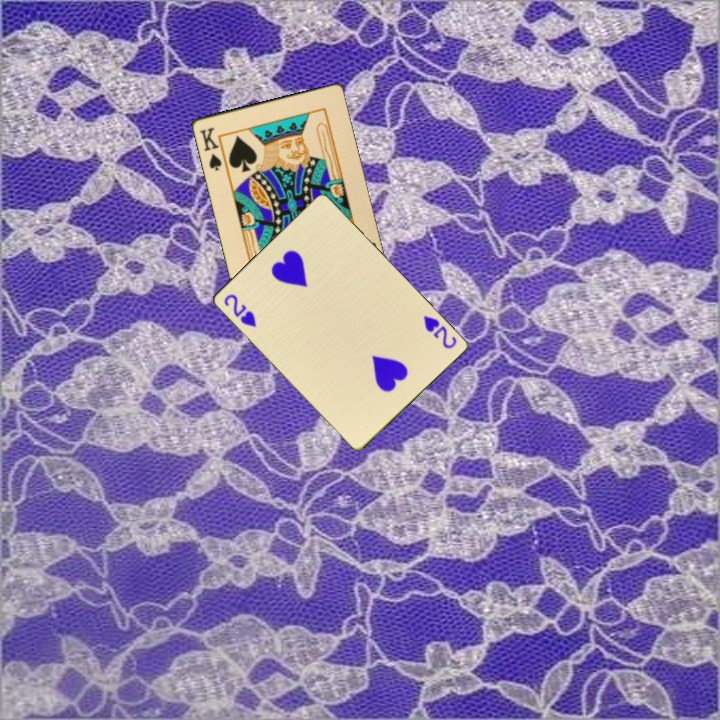2h: (419, 312, 459, 352), (220, 290, 259, 330)
Ks: (196, 123, 224, 173)
